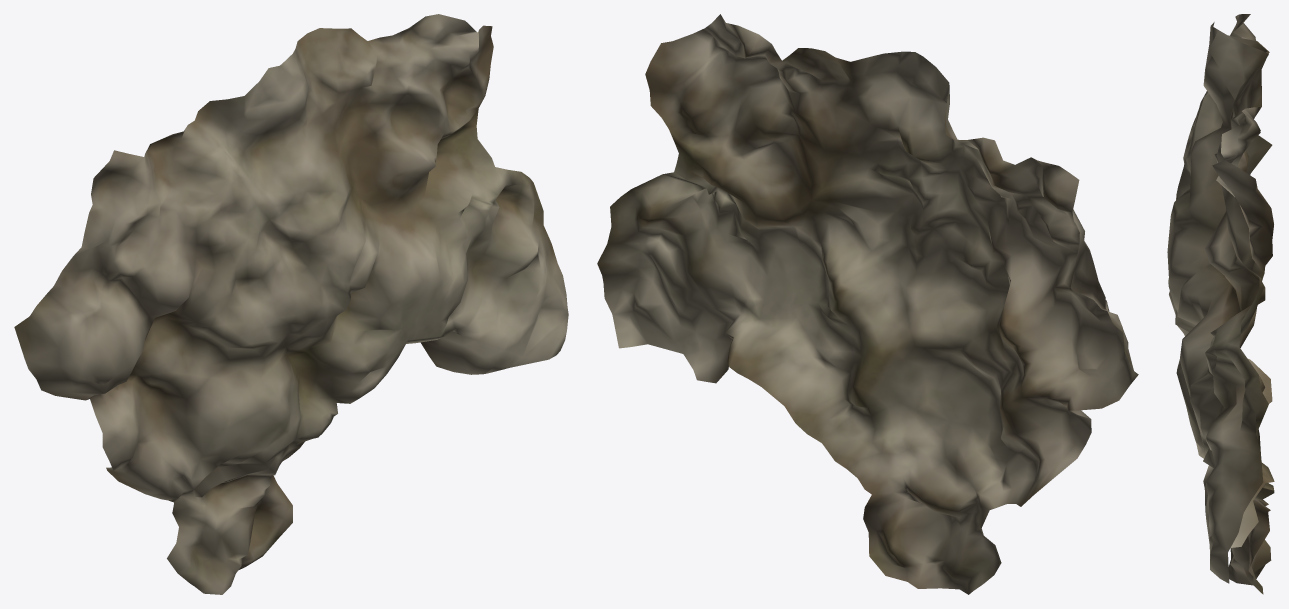
Rendered from Barnacle08.fbx.
3 renders of one model, left to right at view 1: azimuth 30°, elevation 25°; view 2: azimuth 150°, elevation 25°; view 3: azimuth 270°, elevation 25°, orthographic. The views are drawn at different scales.
Visible parts, largest first — view 1: Barnacle08; view 2: Barnacle08; view 3: Barnacle08.
Part boxes in pixels (bbox=[...]): Barnacle08: bbox=[14, 14, 568, 594]; Barnacle08: bbox=[597, 14, 1138, 594]; Barnacle08: bbox=[1167, 14, 1274, 594].
Bounding box in the file's own units: 63.71 × 59.52 × 9.91.
